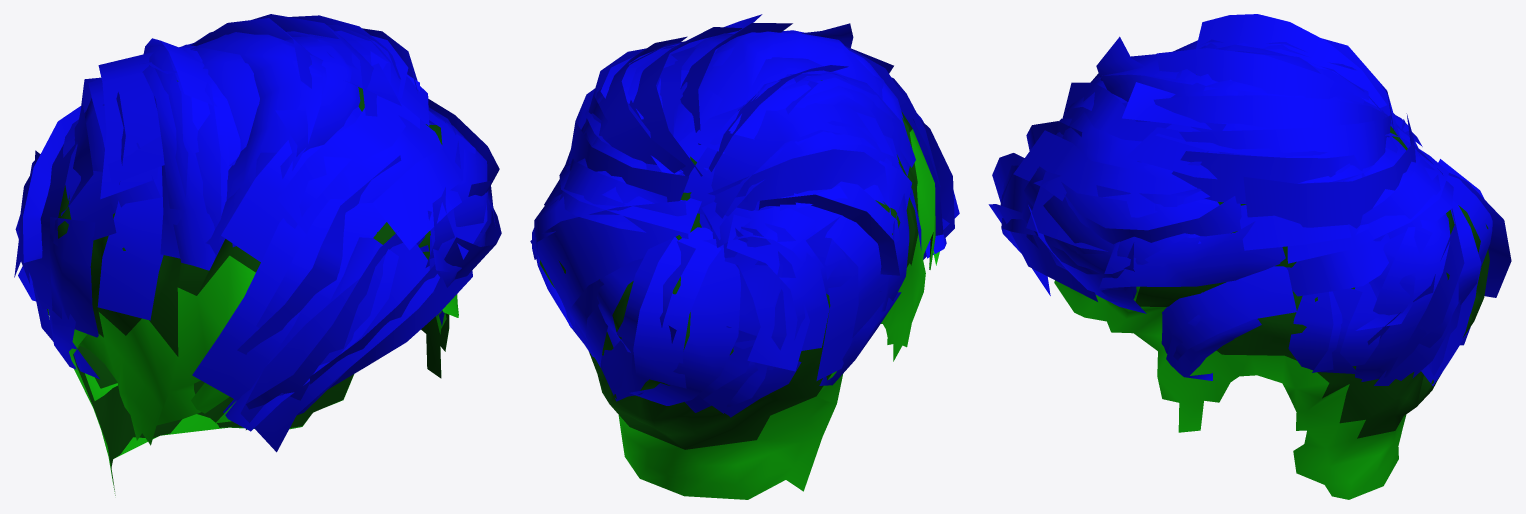
File: hair_004.obj
The picture shows the model from 3 angles, left to right: view 1: azimuth 30°, elevation 25°; view 2: azimuth 150°, elevation 25°; view 3: azimuth 270°, elevation 25°; orthographic projection. The views are drawn at different scales.
Size of the model in its own units: 18.52 by 21.52 by 23.77.
